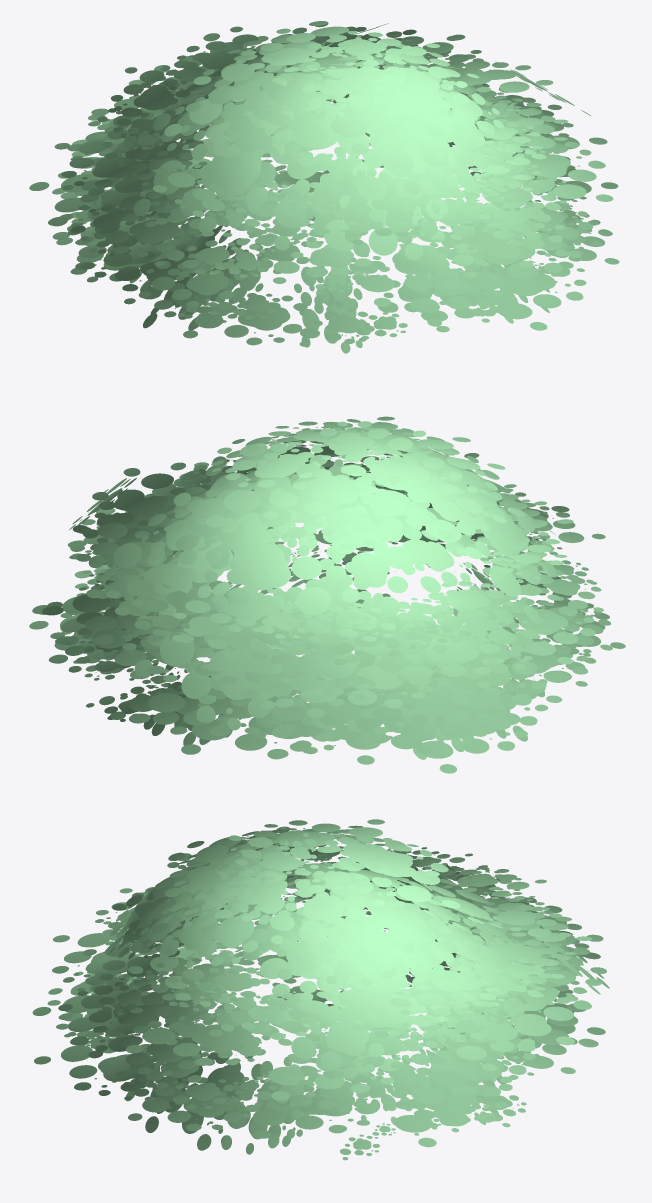
Rendered from Leaves03.fbx.
3 renders of one model, top to bottom at view 1: azimuth 30°, elevation 25°; view 2: azimuth 150°, elevation 25°; view 3: azimuth 270°, elevation 25°, orthographic. The views are drawn at different scales.
Visible parts, largest first — view 1: Plane.445; view 2: Plane.445; view 3: Plane.445.
Boxes of the visible parts, <box> form: Plane.445: <box>29,21,619,353</box>; Plane.445: <box>29,416,625,773</box>; Plane.445: <box>32,819,609,1160</box>.
Size of the model in its own units: 3813 by 1699 by 3879.
Materials: 1 (1 with a texture image).
